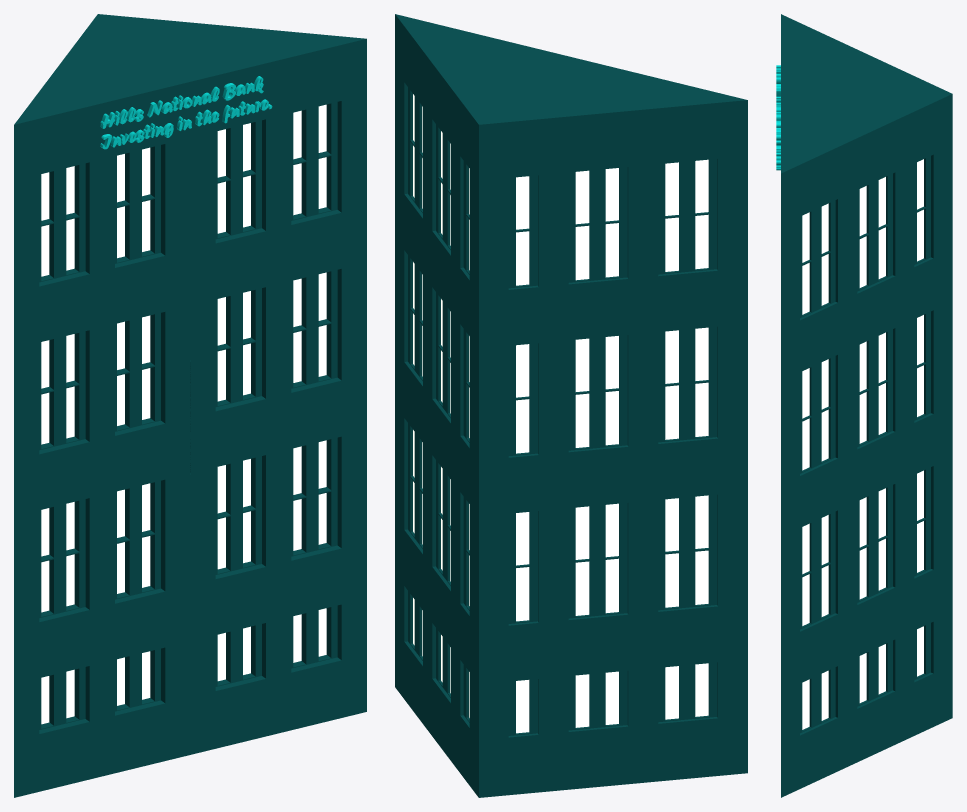
Rendered from hills_national_bank.fbx.
3 views of the same model, side by side, from view 1: azimuth 30°, elevation 25°; view 2: azimuth 150°, elevation 25°; view 3: azimuth 270°, elevation 25° (orthographic). The views are drawn at different scales.
Parts seen in each view (by area): view 1: Vert, Text; view 2: Vert; view 3: Vert, Text.
Part boxes in pixels (x1=…): Vert: x1=14, y1=14, x2=366, y2=797; Text: x1=100, y1=76, x2=272, y2=149; Vert: x1=395, y1=14, x2=747, y2=797; Vert: x1=781, y1=14, x2=952, y2=797; Text: x1=776, y1=65, x2=780, y2=170.
Bounding box in the file's own units: 440 × 802 × 205.
